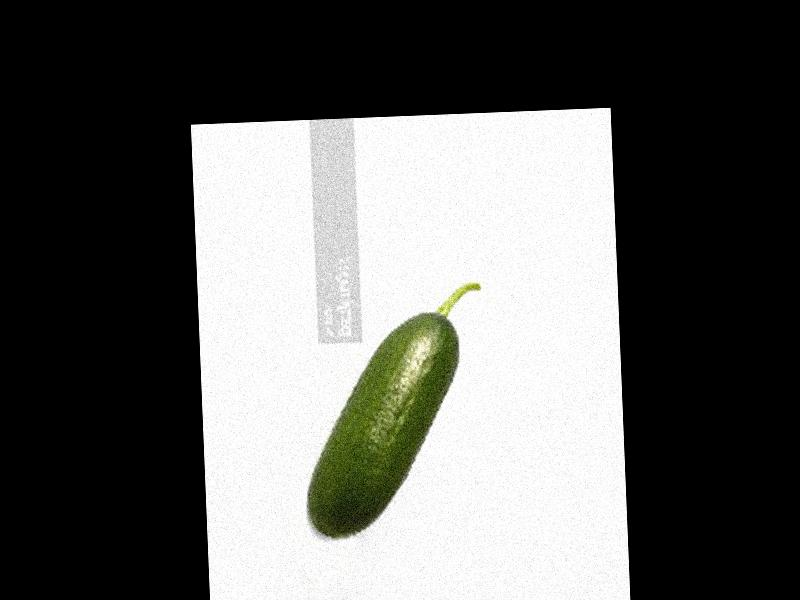Cucumber: (297, 278, 488, 536)
